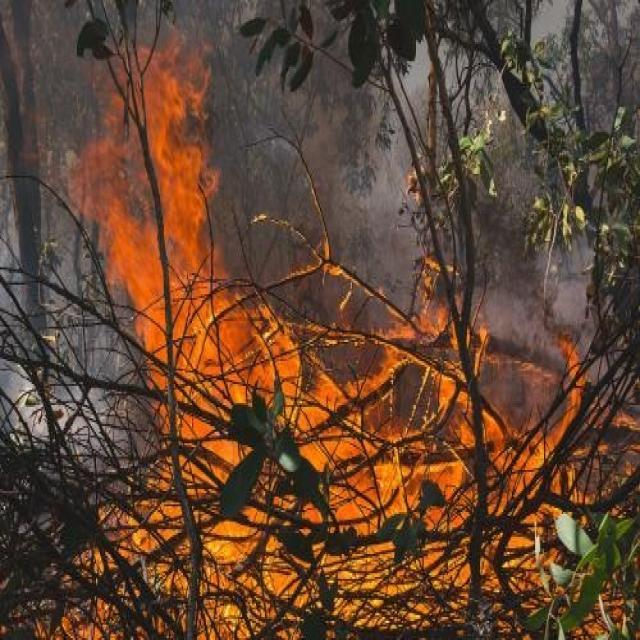Fire: (33, 38, 626, 640)
Smoke: (482, 229, 608, 386), (1, 363, 127, 472)
